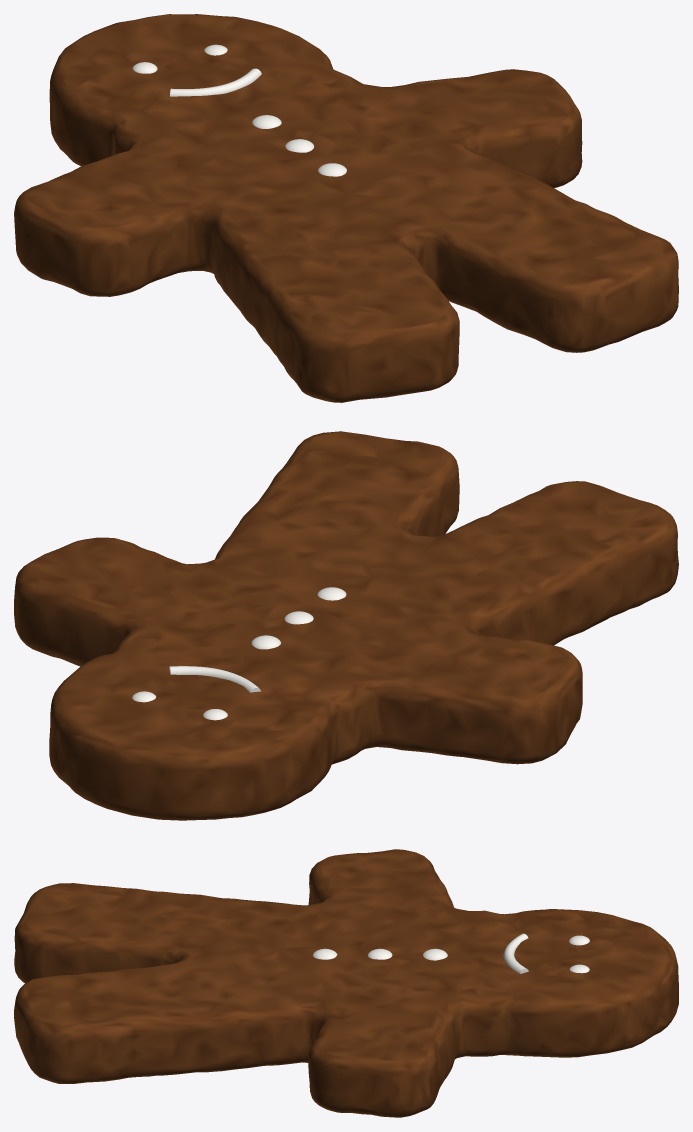
Rendered from mann.glb.
3 renders of one model, top to bottom at view 1: azimuth 30°, elevation 25°; view 2: azimuth 150°, elevation 25°; view 3: azimuth 270°, elevation 25°, orthographic. The views are drawn at different scales.
Parts seen in each view (by area): view 1: cookie; view 2: cookie; view 3: cookie.
Part boxes in pixels (x1,y1,x2,y2): cookie: [14, 14, 678, 402]; cookie: [14, 431, 678, 820]; cookie: [14, 849, 678, 1117].
Bounding box in the file's own units: 0.0756 × 0.0101 × 0.0967.
